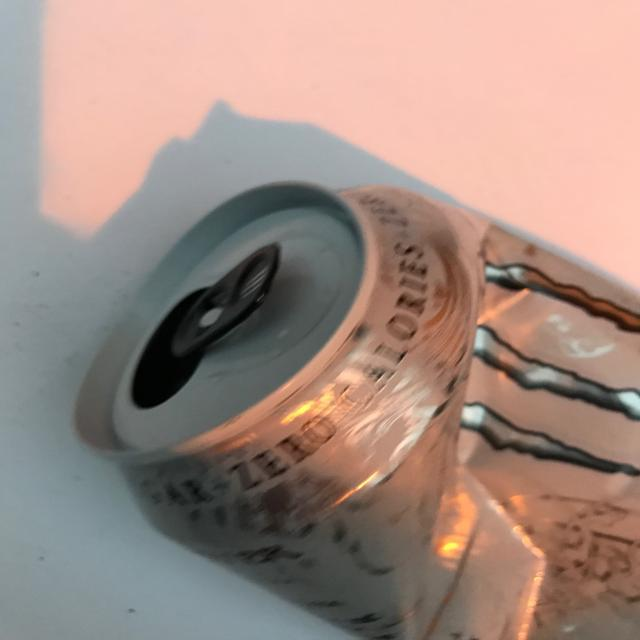metal: (75, 176, 639, 640)
